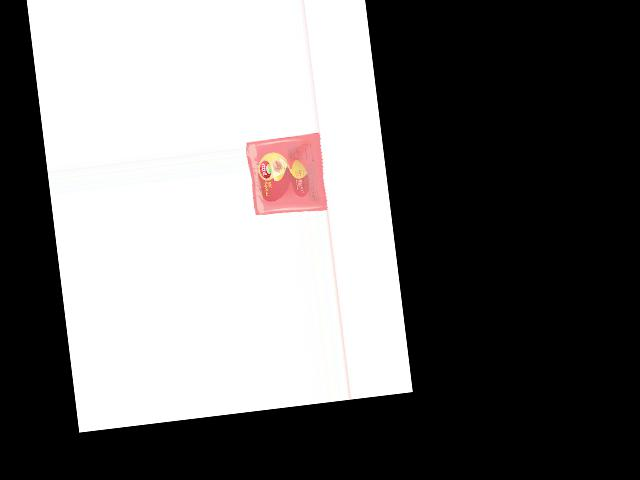cheese: (245, 131, 329, 216)
